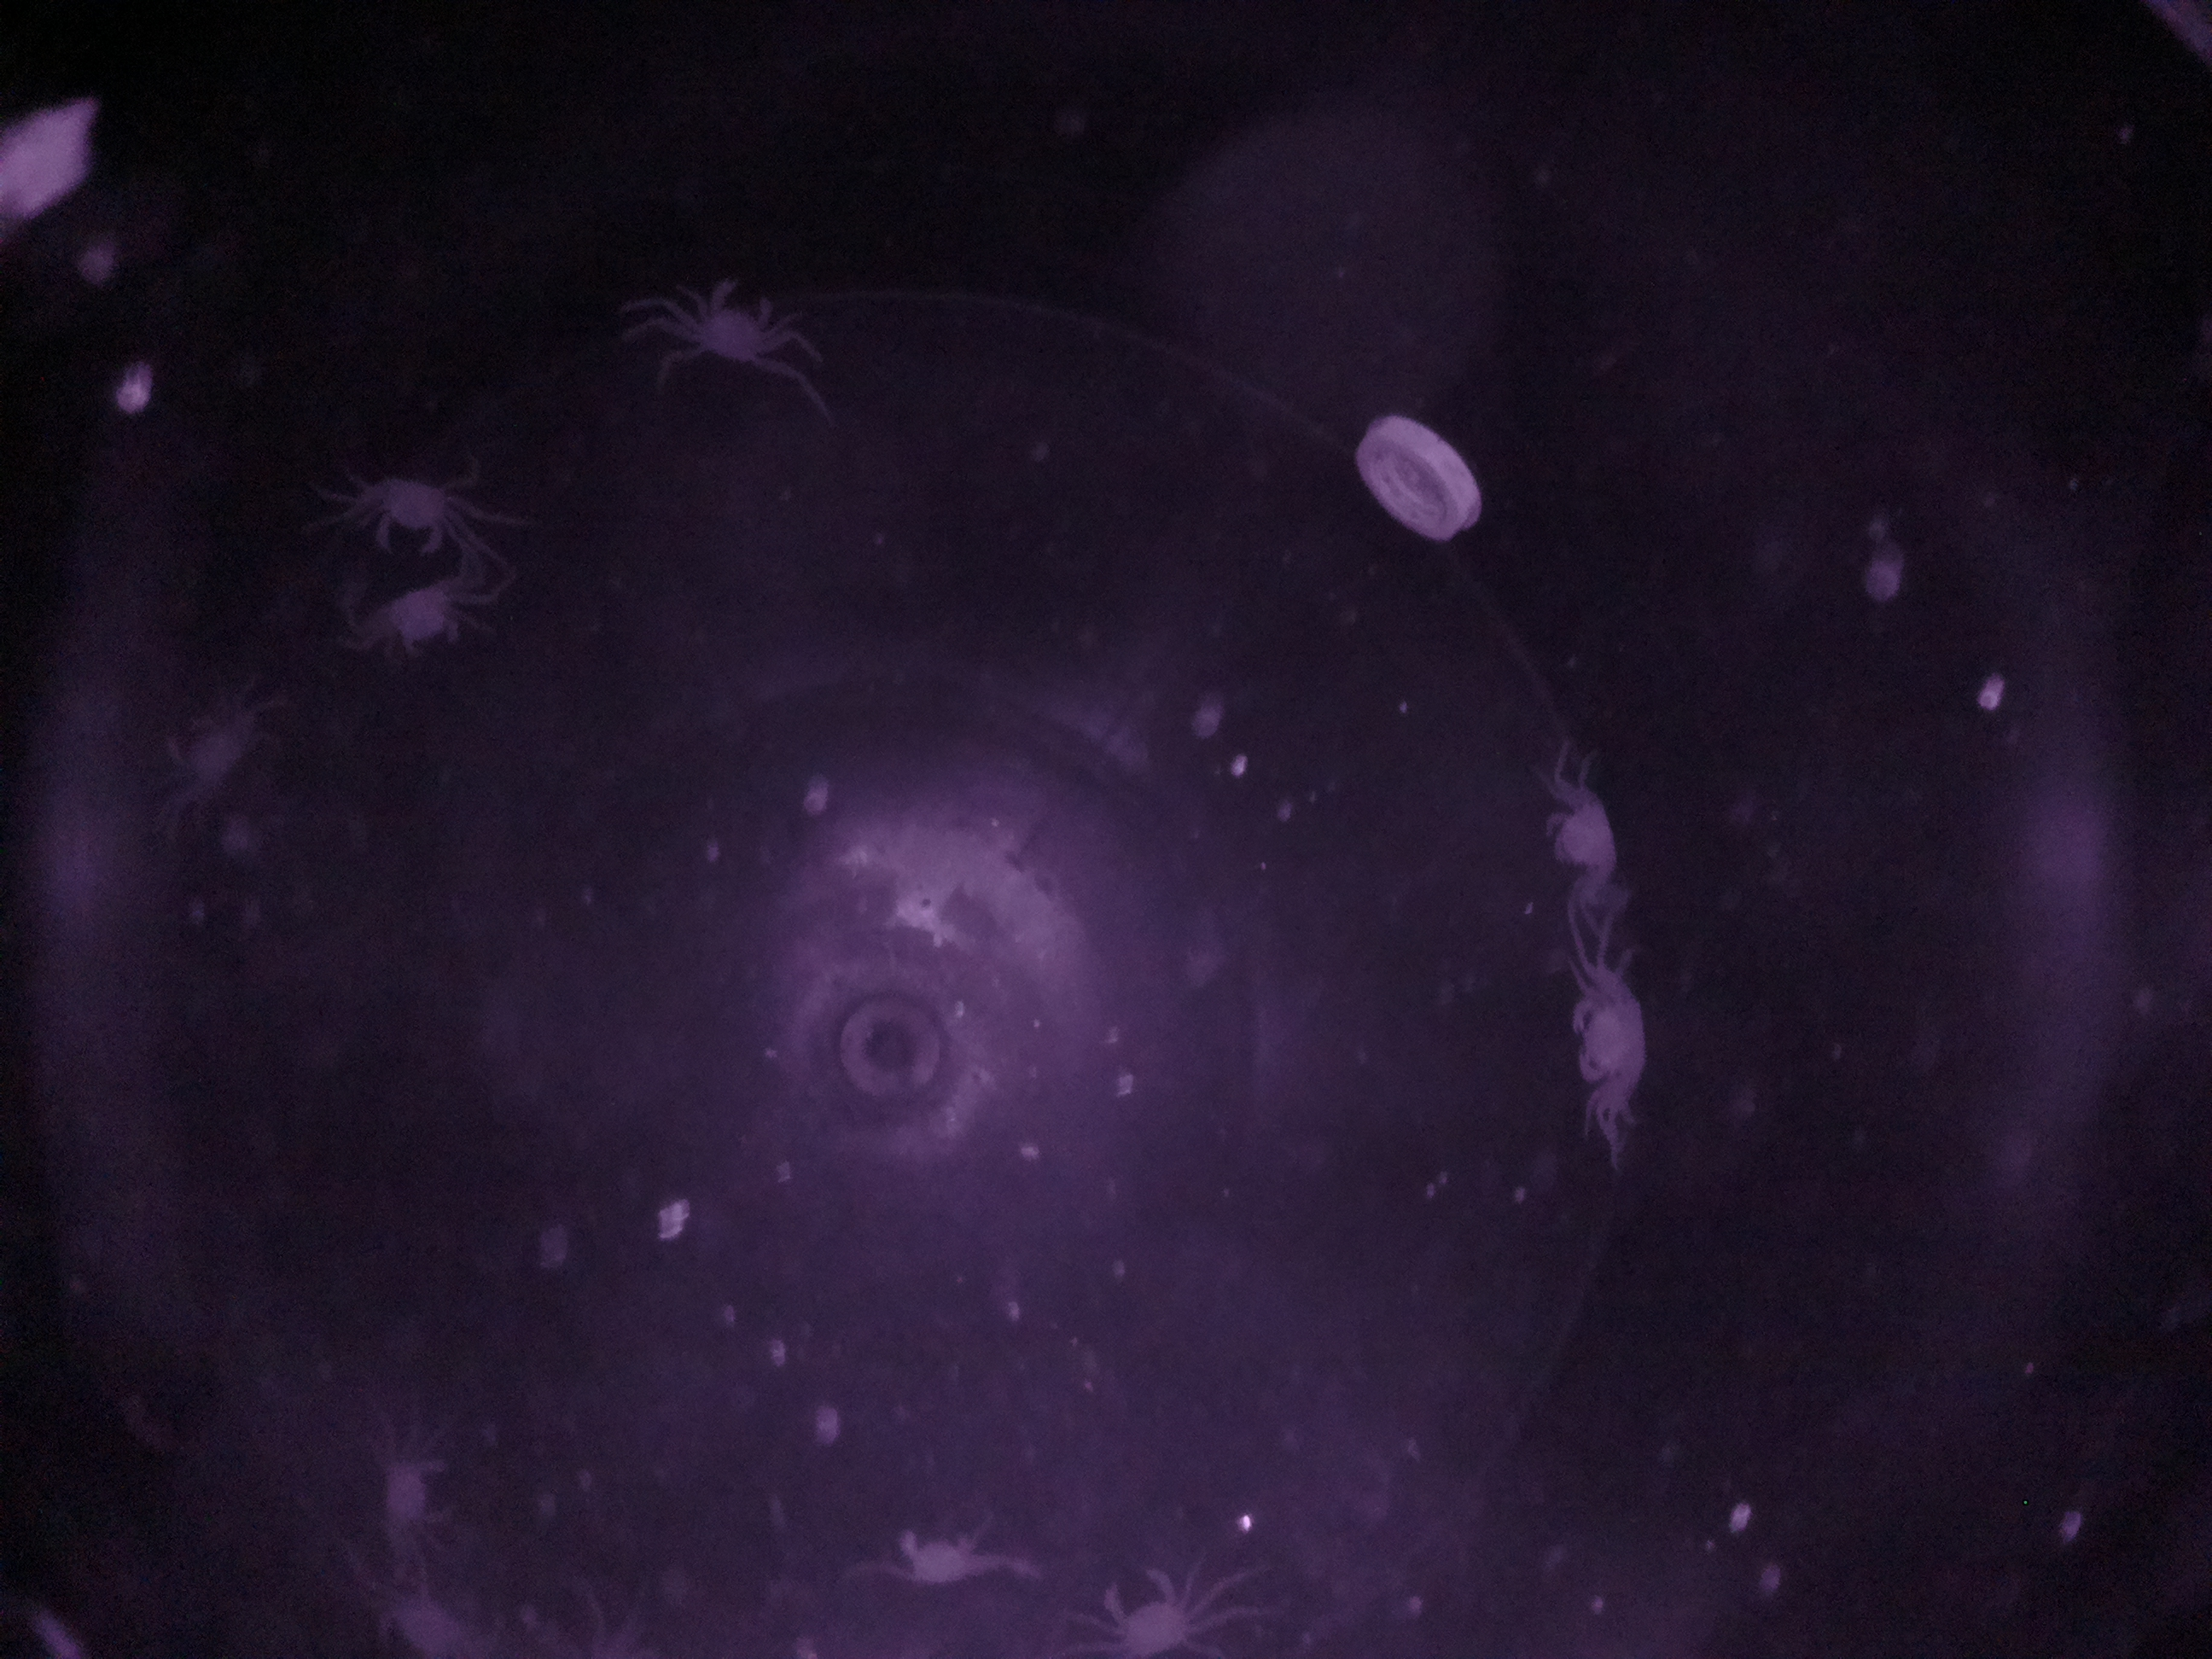Crab: (681, 256, 805, 399), (1080, 1532, 1212, 1659), (1559, 971, 1676, 1101), (1534, 774, 1648, 908), (361, 451, 472, 573), (378, 563, 481, 685)
